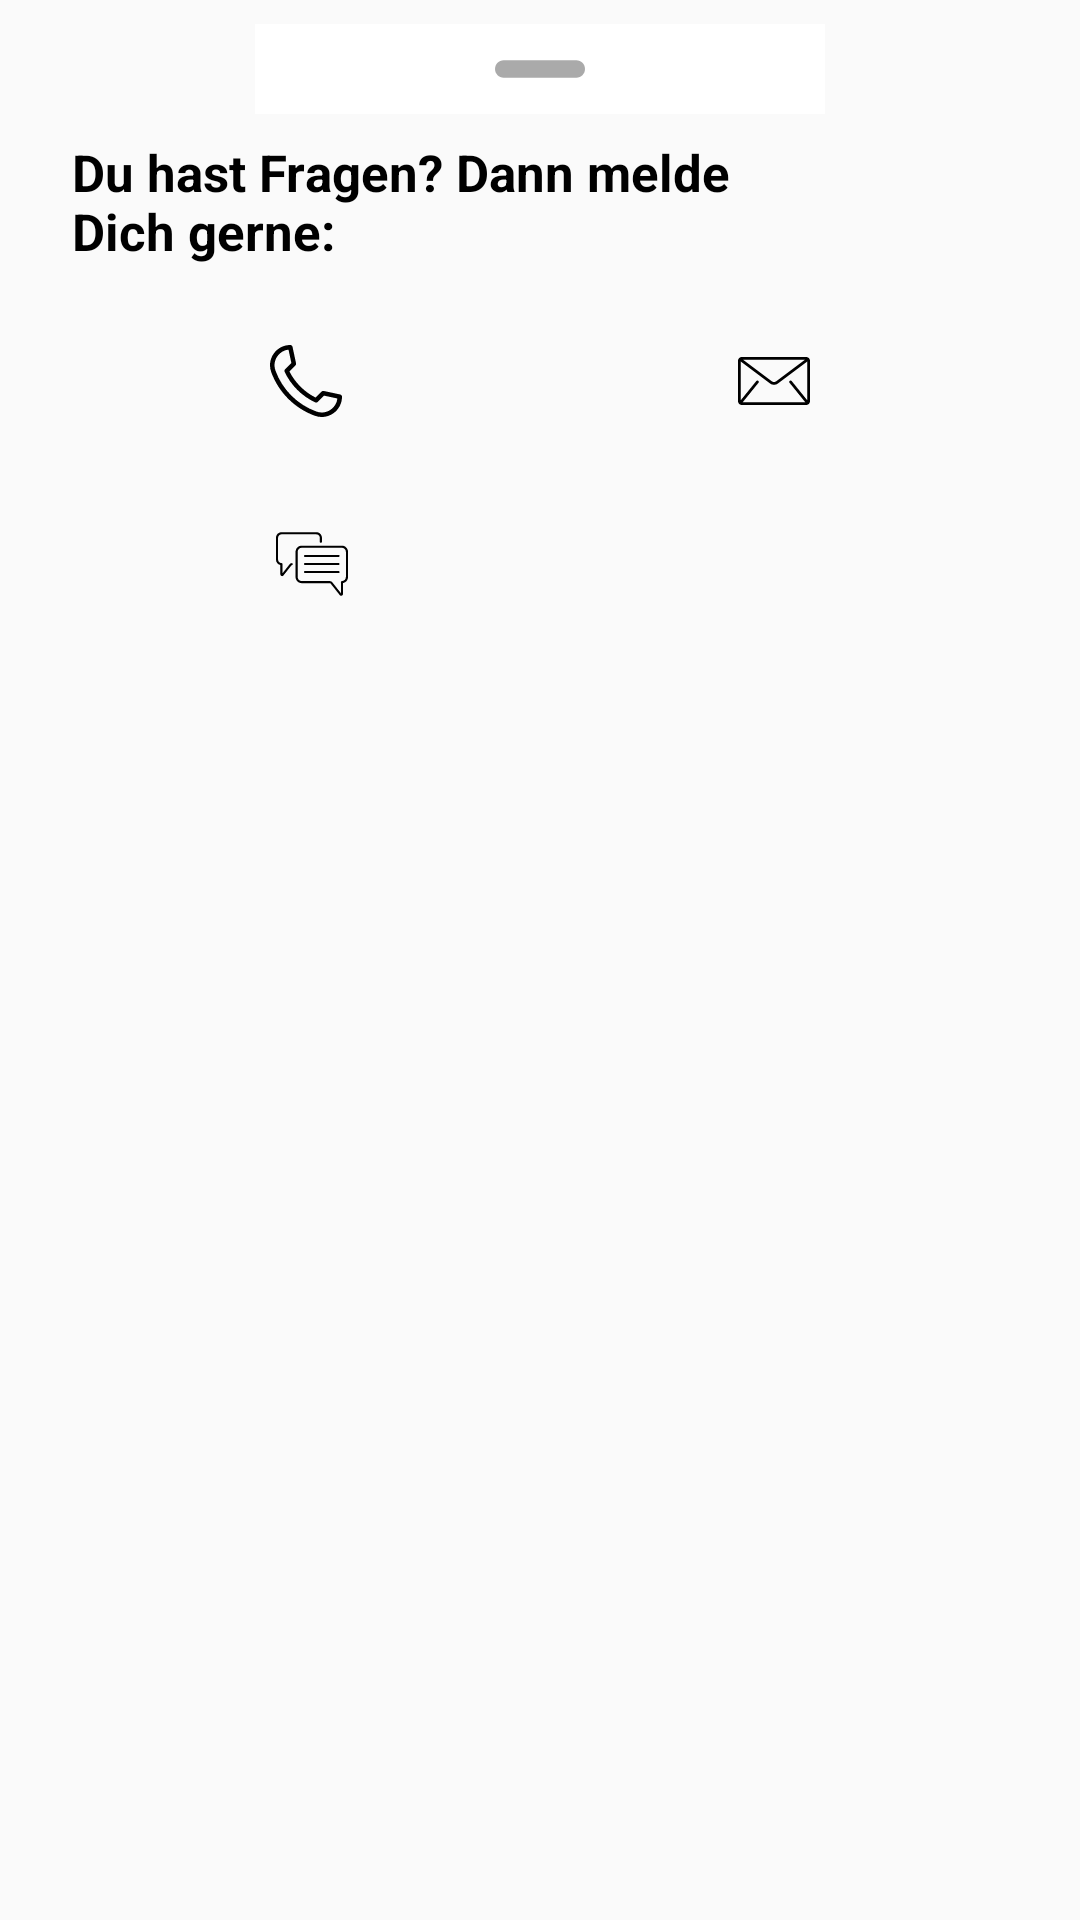

Icon bounding boxes for this 1080 × 1920 phone screenshot, format (x1, y1, x2, y2):
email: (738, 357, 810, 405)
message: (276, 532, 348, 596)
phone: (270, 345, 342, 417)
